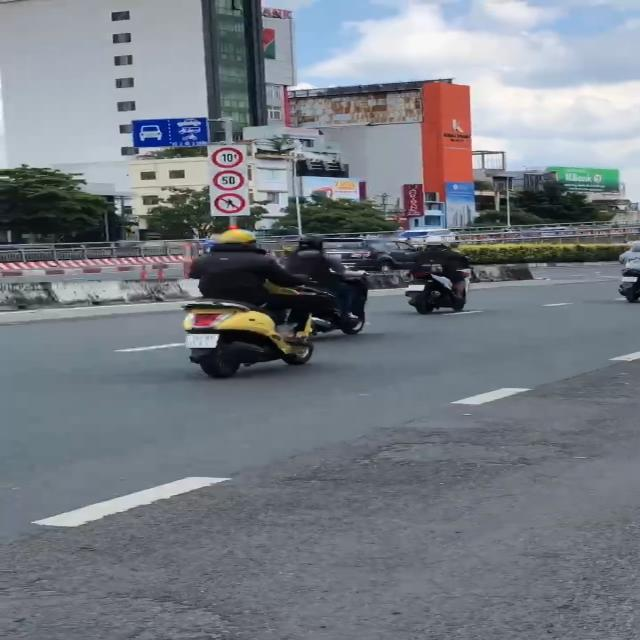Bien bao cam nguoi di bo: (212, 191, 251, 214)
Bien bao toc do toi da cho phep: (212, 170, 248, 191)
